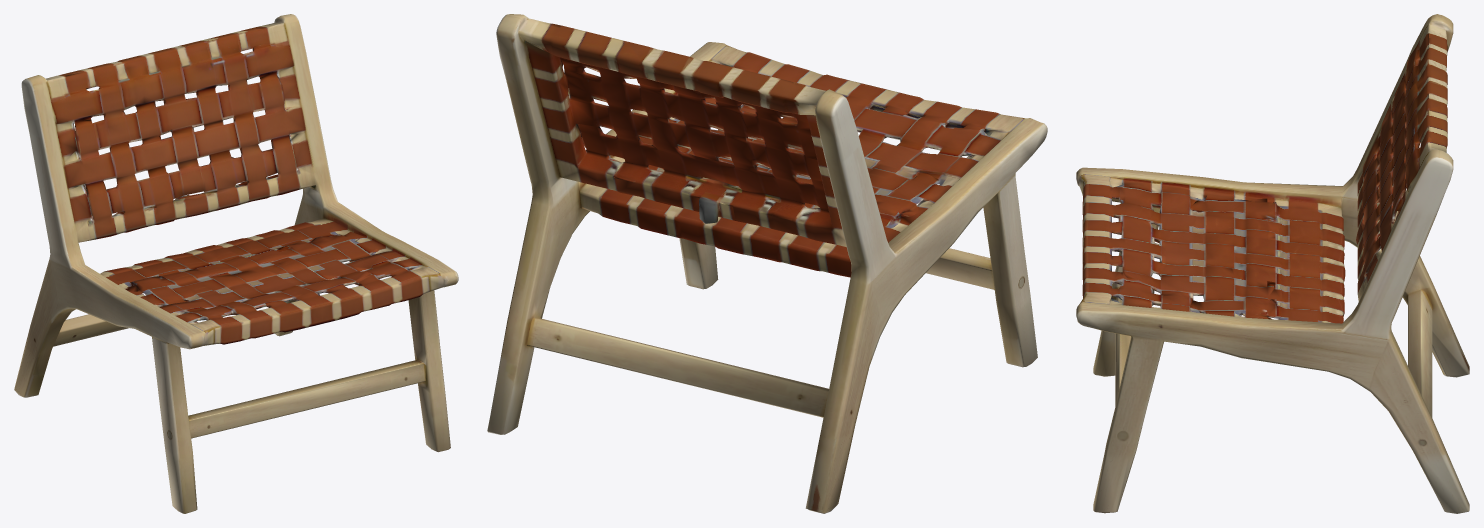
The model's file is balcony_woven_chair_31.1inchestall_0428030211_texture.glb.
3 views of the same model, side by side, from view 1: azimuth 30°, elevation 25°; view 2: azimuth 150°, elevation 25°; view 3: azimuth 270°, elevation 25° (orthographic). The views are drawn at different scales.
Visible parts, largest first — view 1: Mesh_0; view 2: Mesh_0; view 3: Mesh_0.
Boxes of the visible parts, x1,y1,x2,y2 form: Mesh_0: [14, 14, 458, 513]; Mesh_0: [487, 14, 1047, 513]; Mesh_0: [1076, 14, 1469, 513].
Size of the model in its own units: 0.6829 by 0.7899 by 0.7851.
1 material, 1 textured.
